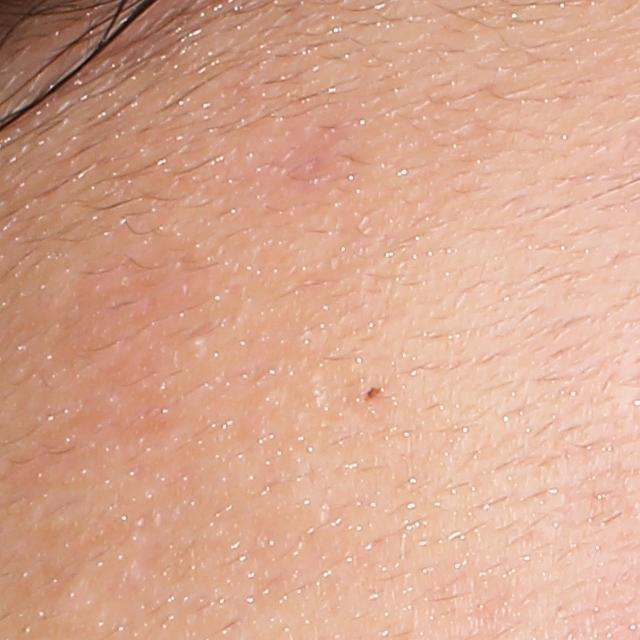comedo: (182, 331, 215, 360)
nevus: (363, 385, 386, 402)
